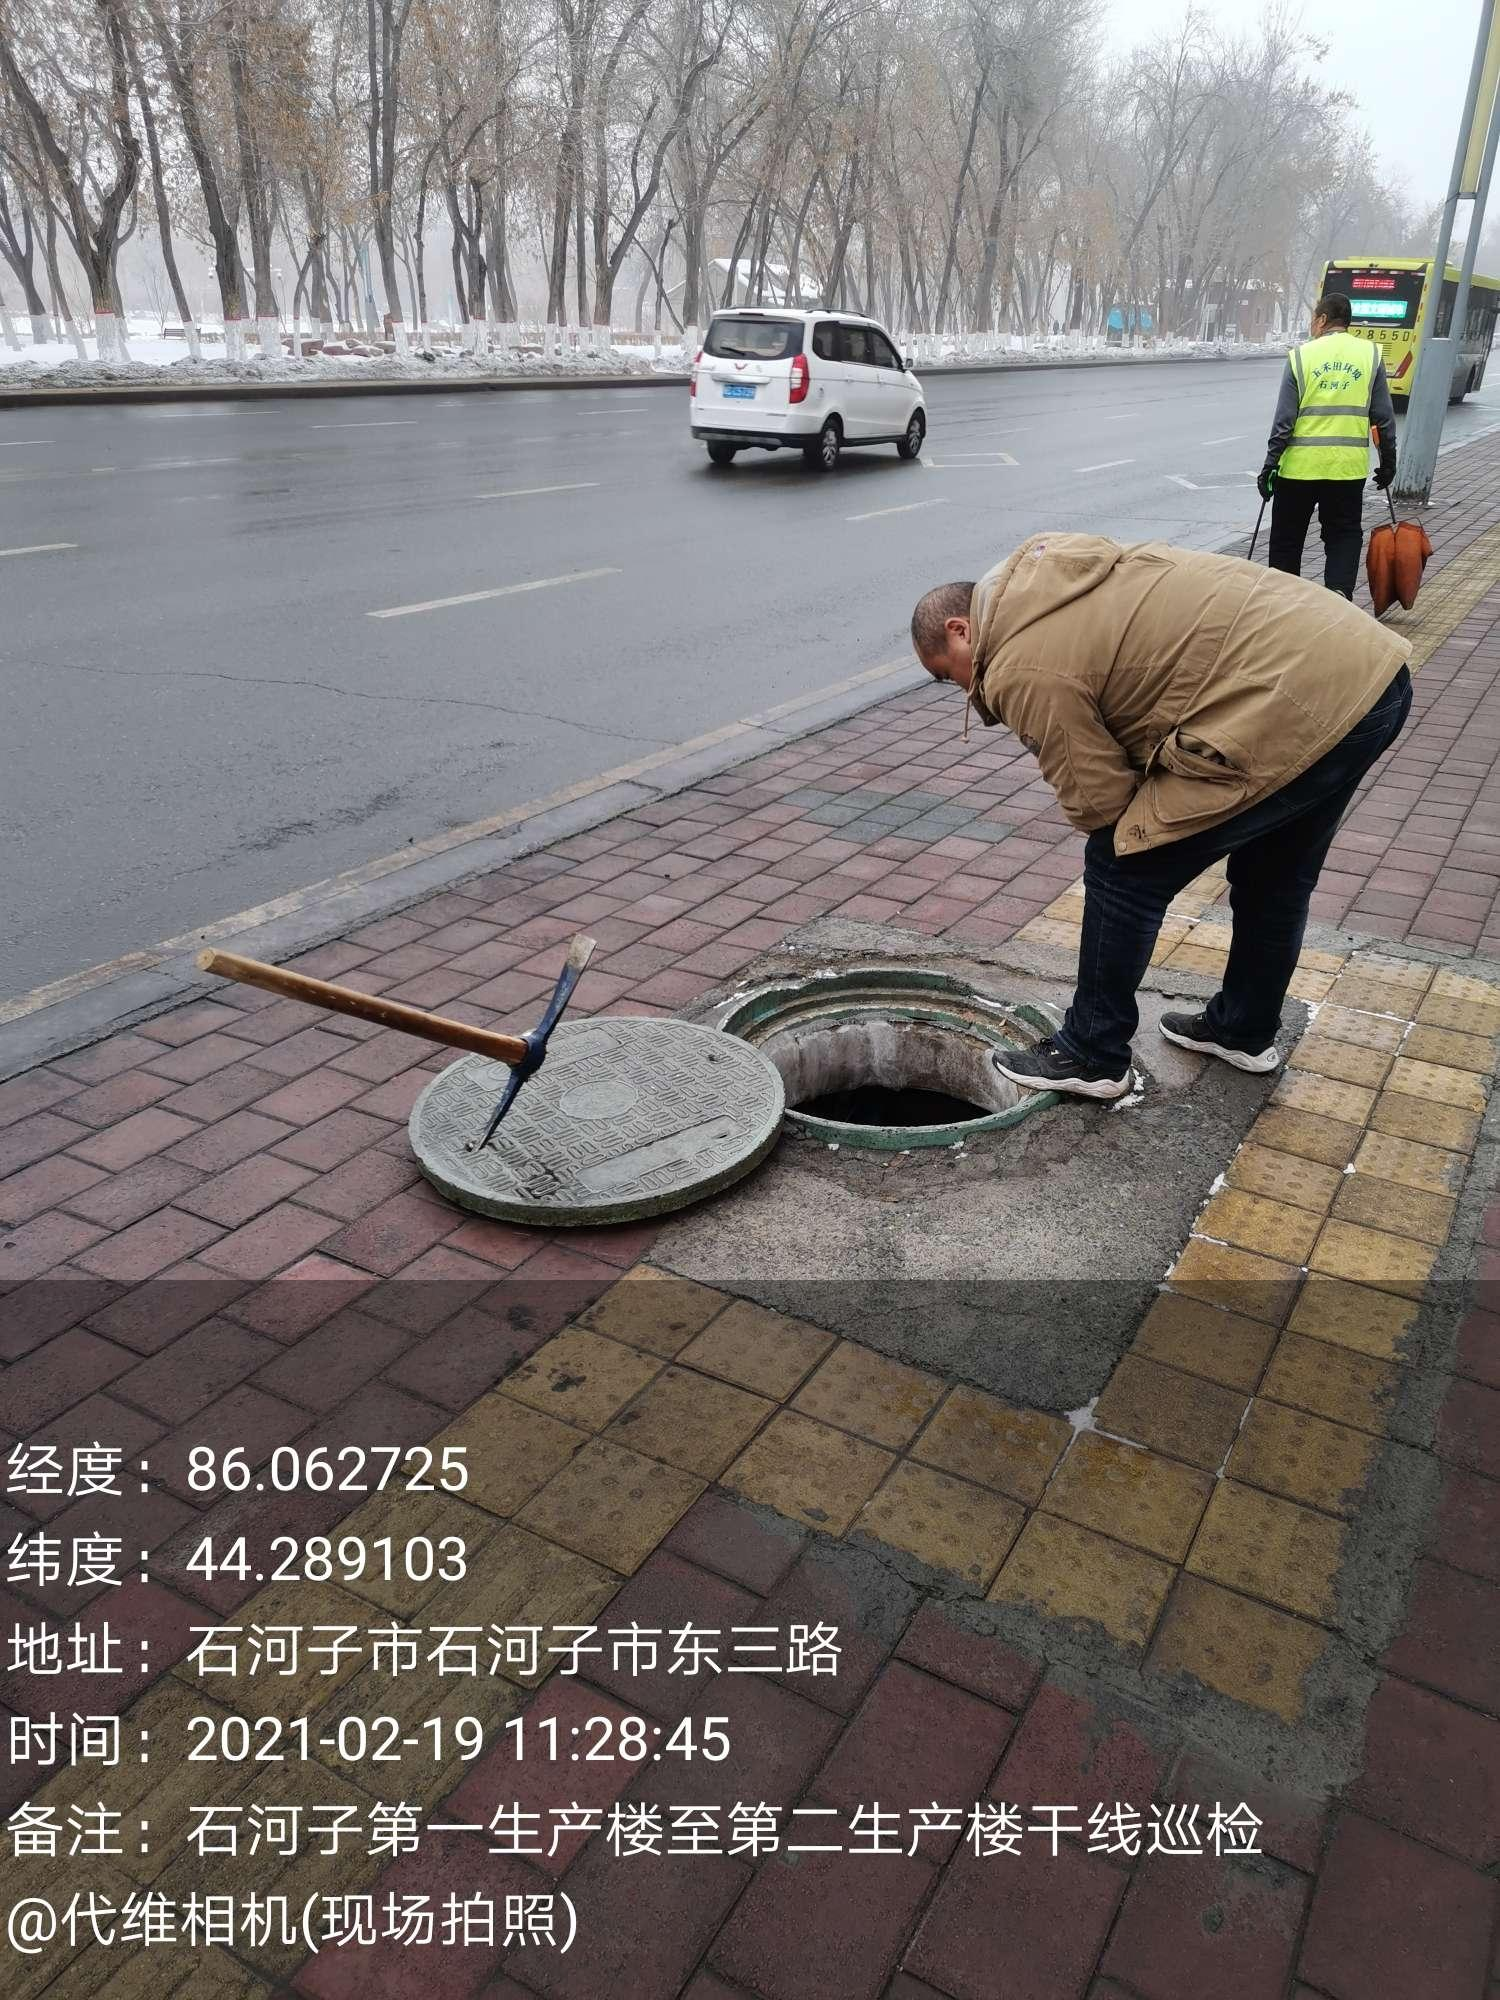wellcover: (362, 896, 1106, 1249)
